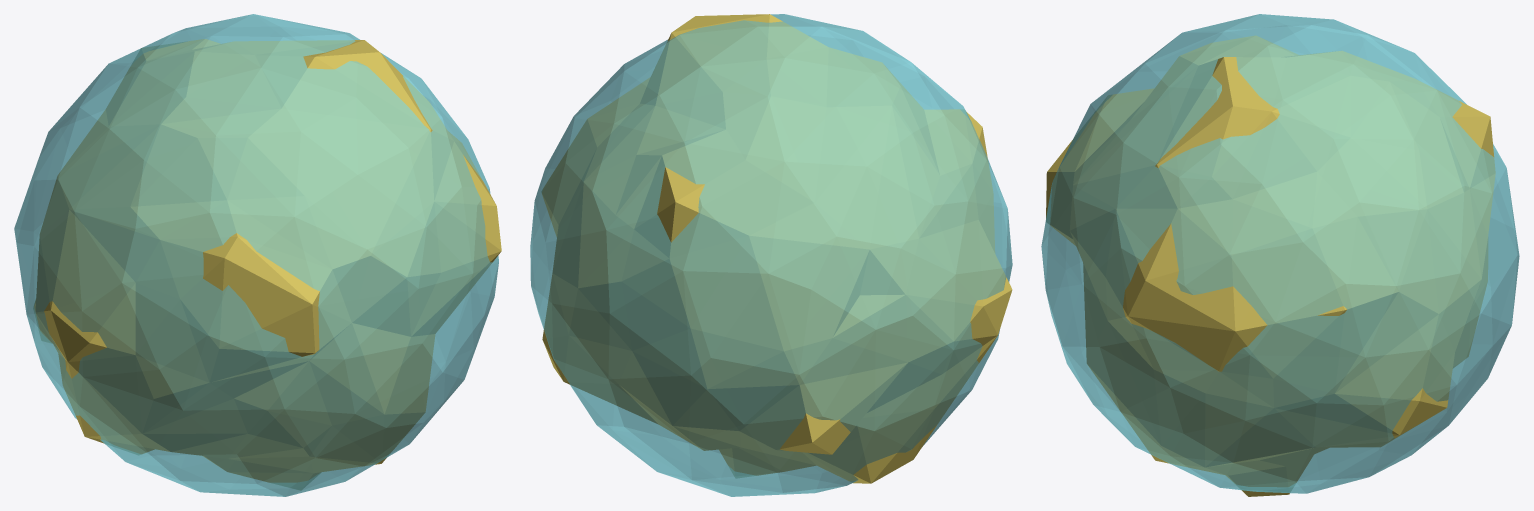
Rendered from water_planet.fbx.
The picture shows the model from 3 angles, left to right: view 1: azimuth 30°, elevation 25°; view 2: azimuth 150°, elevation 25°; view 3: azimuth 270°, elevation 25°; orthographic projection.
Parts seen in each view (by area): view 1: water_planet; view 2: water_planet; view 3: water_planet.
Part boxes in pixels (bbox=[...]): water_planet: bbox=[14, 14, 501, 496]; water_planet: bbox=[530, 14, 1012, 496]; water_planet: bbox=[1041, 14, 1519, 496].
Size of the model in its own units: 201 by 206 by 199.
